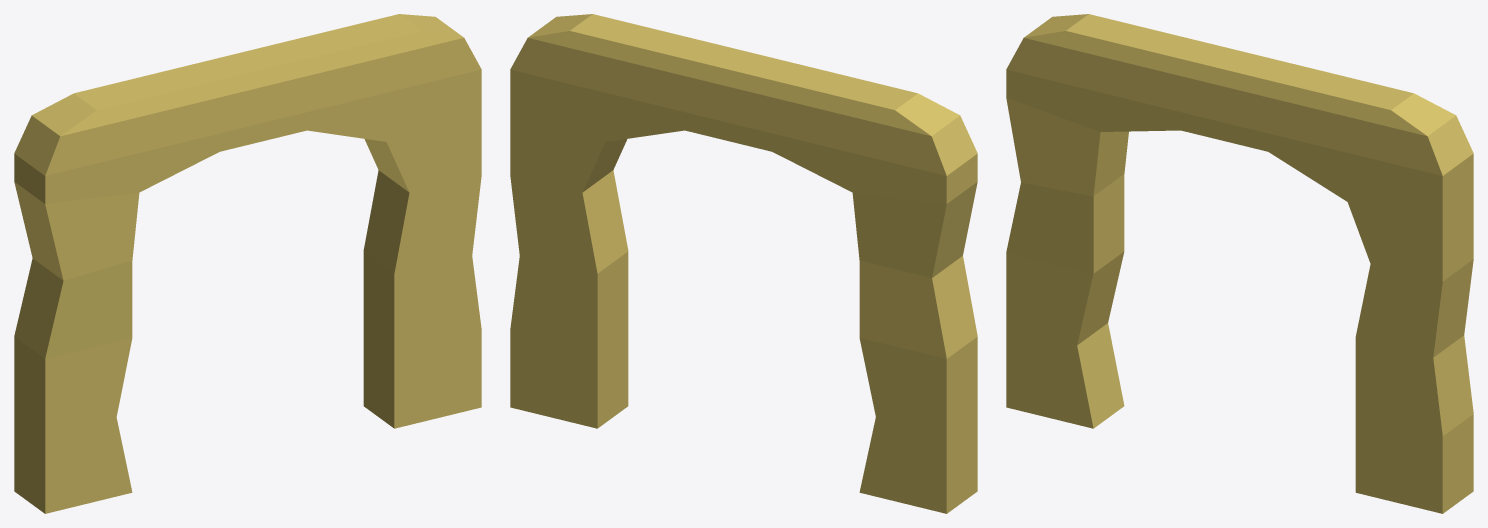
Rendered from arco.fbx.
The picture shows the model from 3 angles, left to right: view 1: azimuth 30°, elevation 25°; view 2: azimuth 150°, elevation 25°; view 3: azimuth 330°, elevation 25°; orthographic projection.
Visible parts, largest first — view 1: arco; view 2: arco; view 3: arco.
Part boxes in pixels (x1=…): arco: x1=14, y1=14, x2=481, y2=513; arco: x1=510, y1=14, x2=977, y2=513; arco: x1=1006, y1=14, x2=1473, y2=513.
Size of the model in its own units: 1939 by 1644 by 252.
